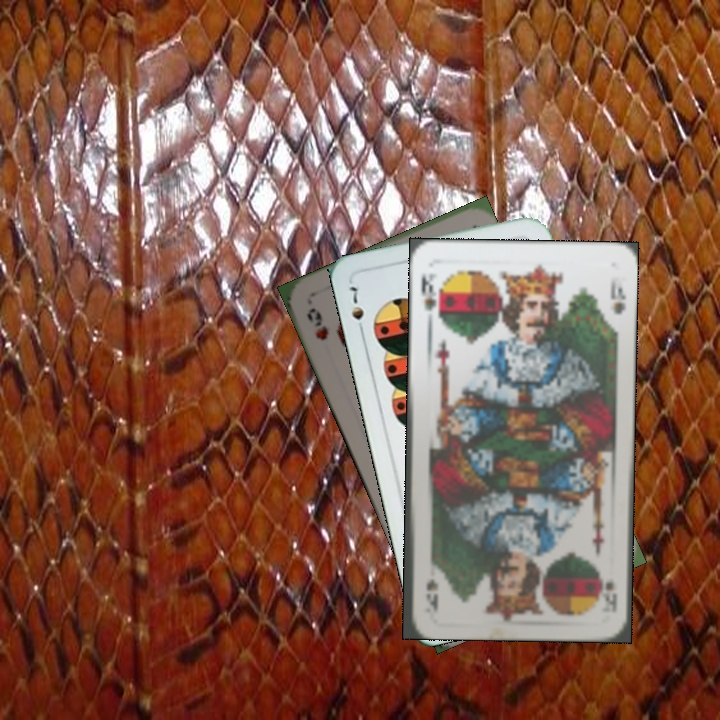H9: (302, 303, 332, 343)
S7: (342, 281, 367, 338)
SK: (417, 268, 443, 321), (596, 566, 619, 615)
